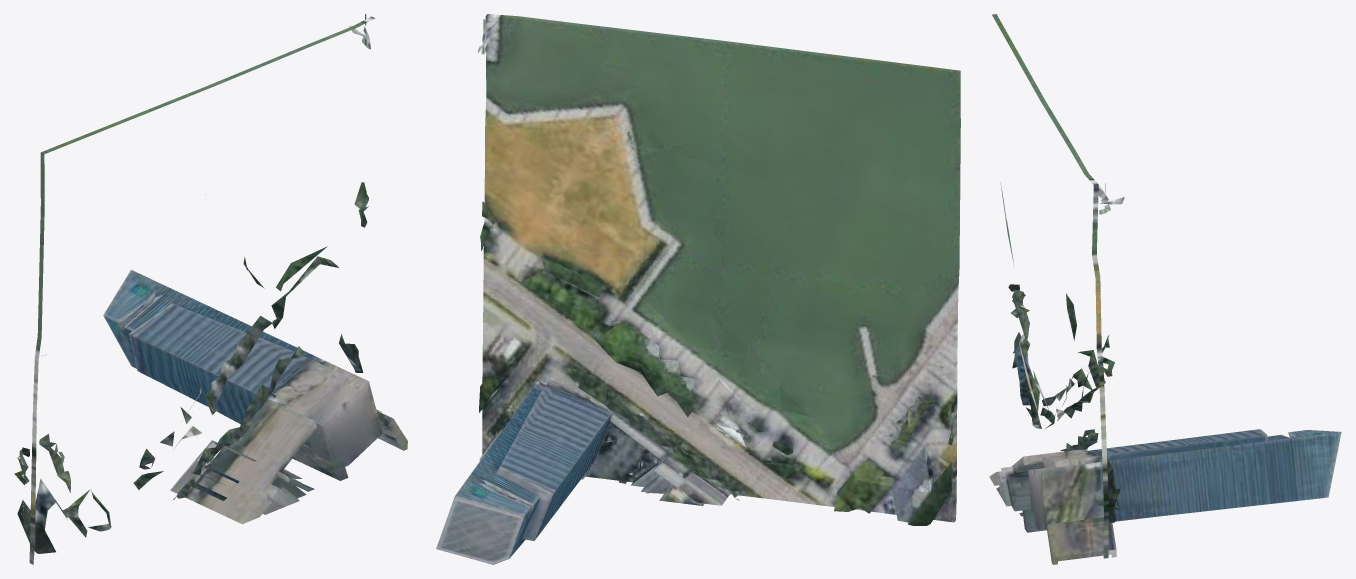
File: tile_017.glb
3 renders of one model, left to right at view 1: azimuth 30°, elevation 25°; view 2: azimuth 150°, elevation 25°; view 3: azimuth 270°, elevation 25°, orthographic. The views are drawn at different scales.
Size of the model in its own units: 311 by 305 by 259.
2 materials, 2 textured.
